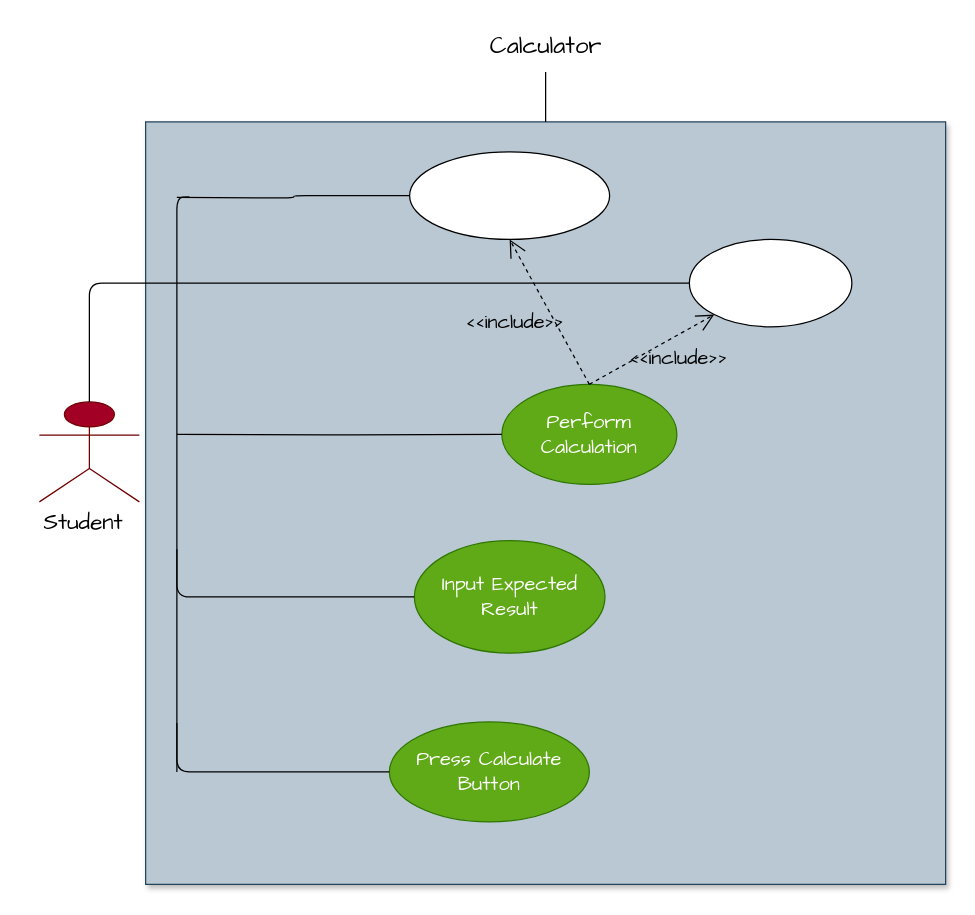
Some shapes in this 975 by 915 pixel diagram are drawn without their labels. The shapes that lost their labels are listed below. From the top down, each one's centre as x and y in pixels, then its label:
At point 509,195: "input 2 numbers".
At point 770,282: "choose math operations".
